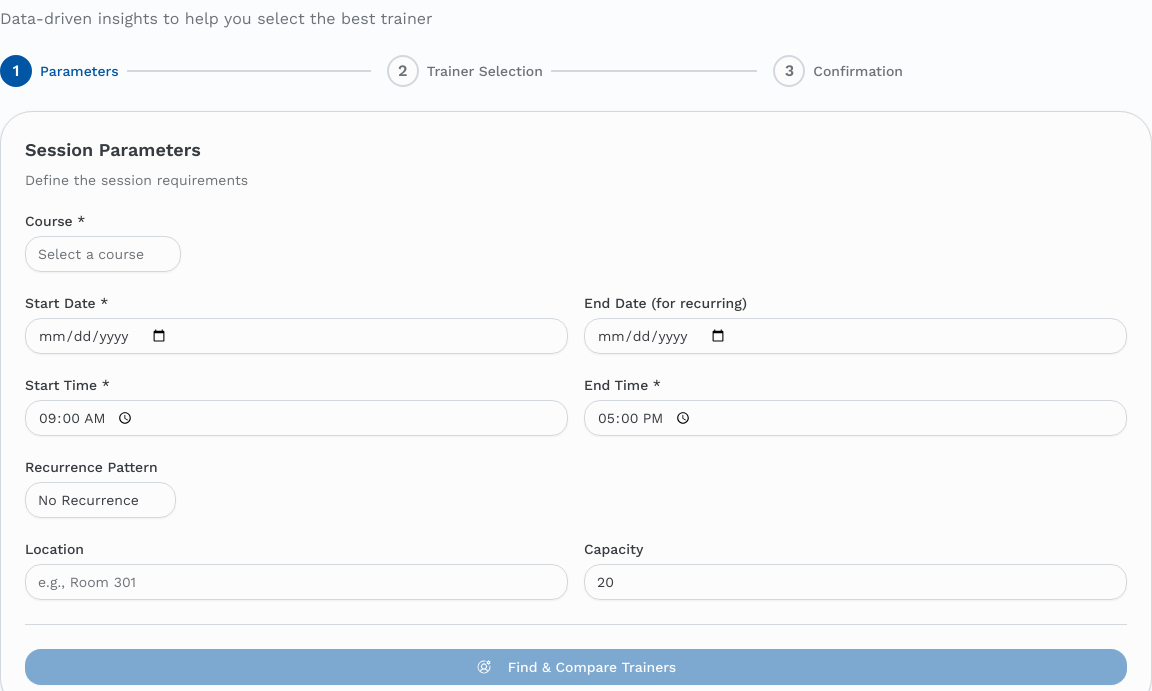
Test: GuidedScheduler › shows error when no trainers are available
This screenshot has width=1152, height=691.
Click the dropdown labelled "Select a course" at (103, 254), box [25,236,181,272]
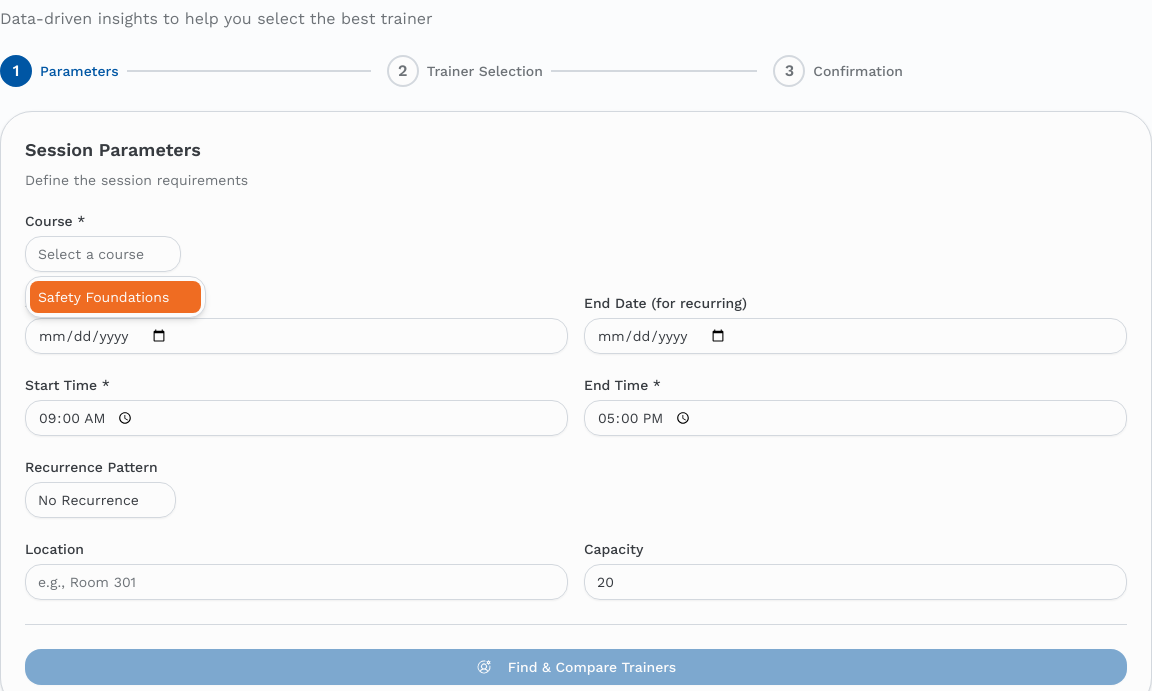
Click the option "Safety Foundations" at (116, 297), box [30,281,201,313]
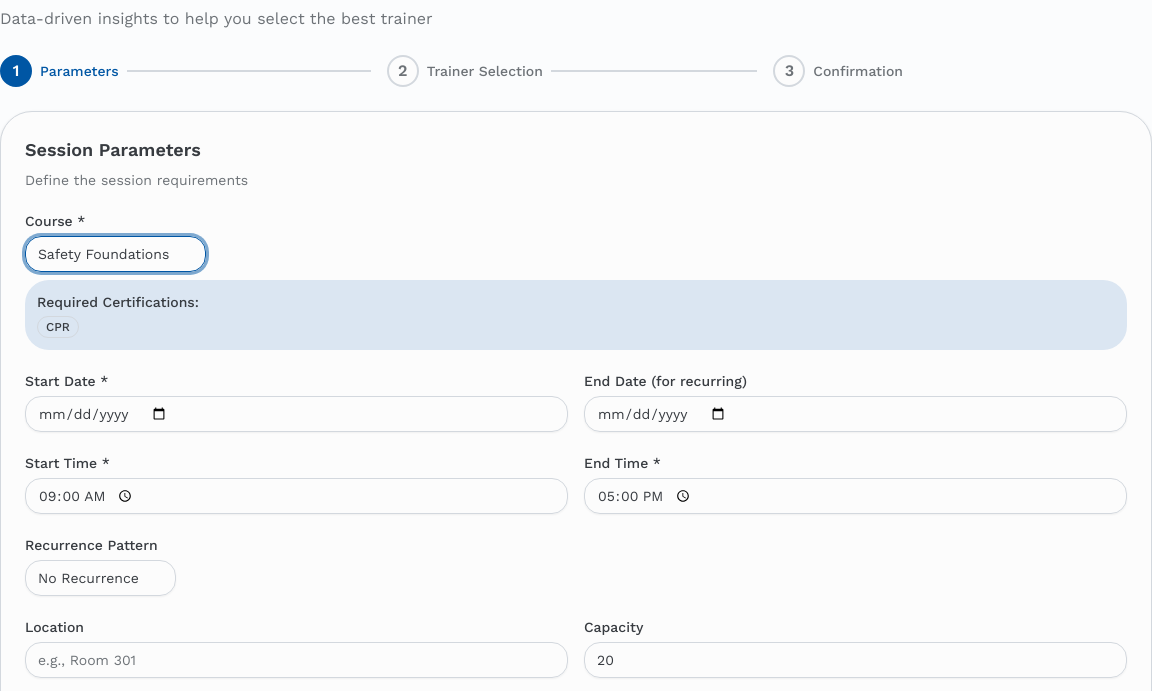
Type "2026-03-20" into the date field labelled "Start Date *" at (296, 414), box [25,396,568,432]
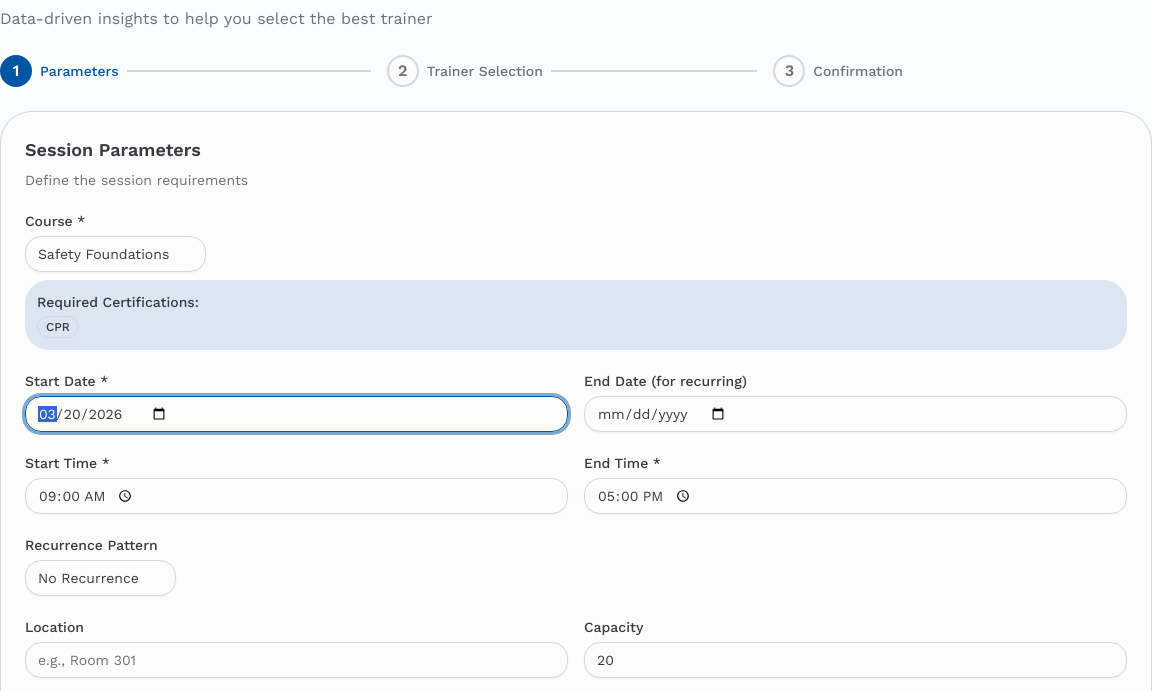
Press Tab
(page scrolled)
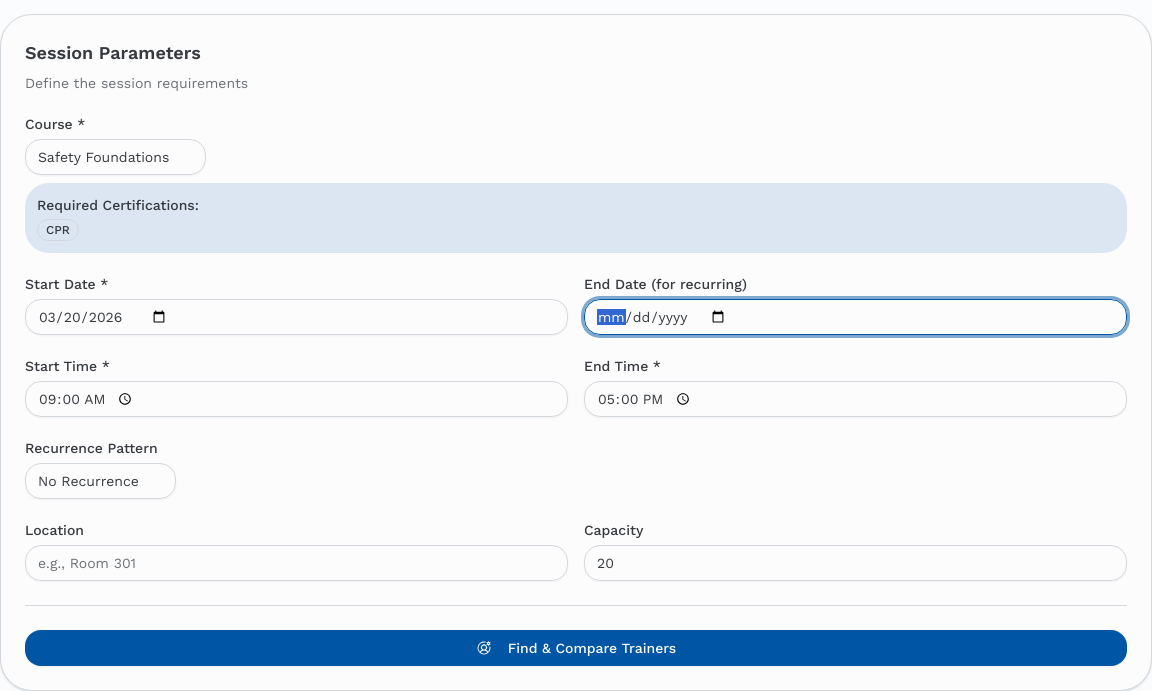
Click the button "Find & Compare Trainers" at (576, 648), box [25,630,1127,666]
(page scrolled)
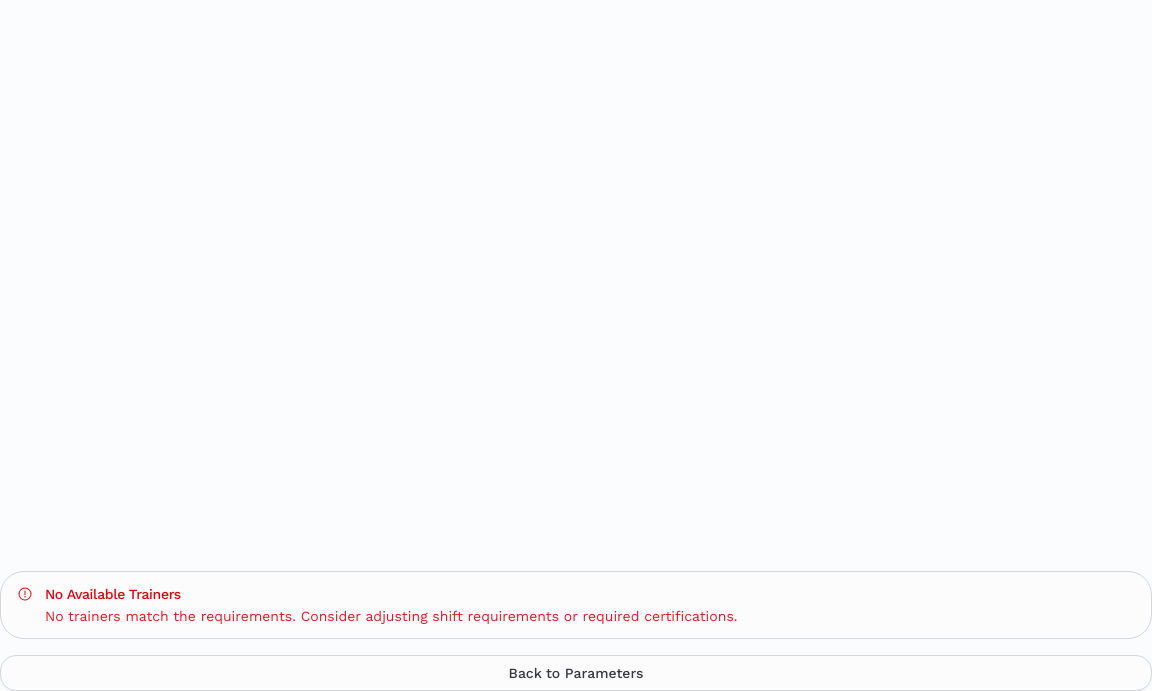
Now the text "No Available Trainers" is shown, box [45,586,181,602]
